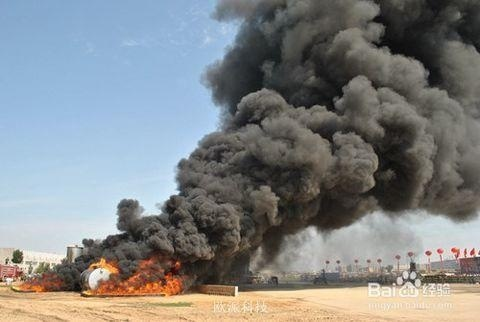fire: (82, 253, 188, 295), (17, 272, 62, 291)
